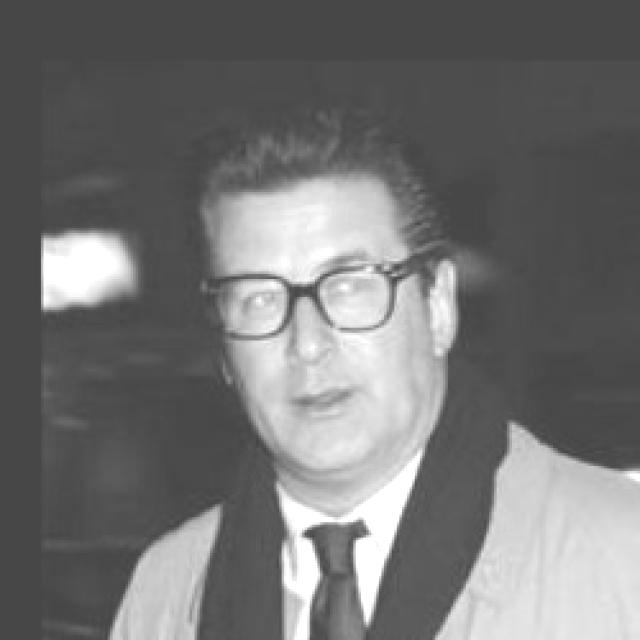real: (217, 176, 437, 470), (223, 266, 407, 322)
